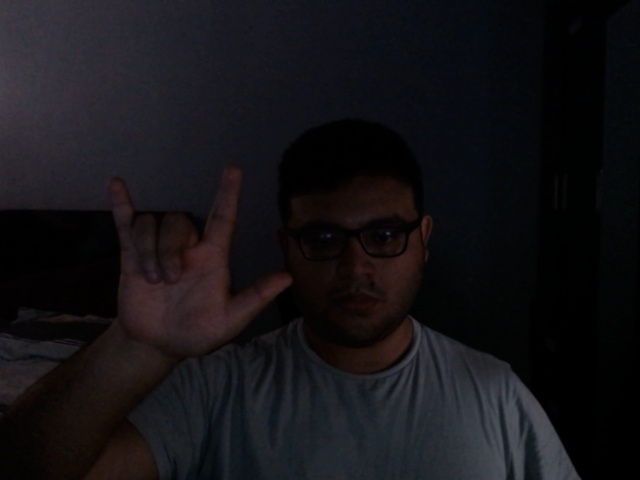I love you: (101, 162, 296, 370)
